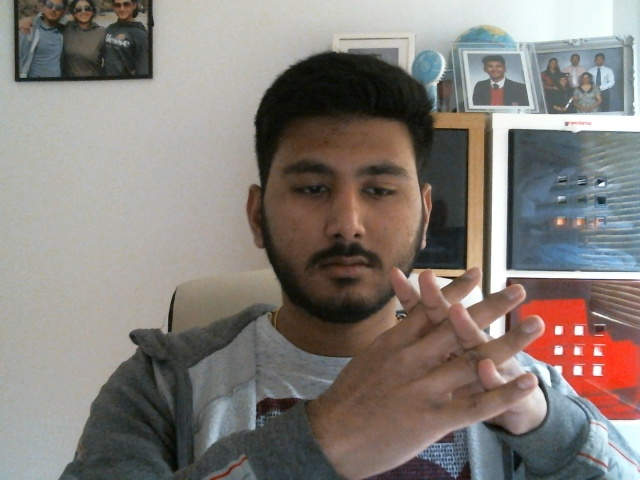how: (336, 266, 544, 424)
